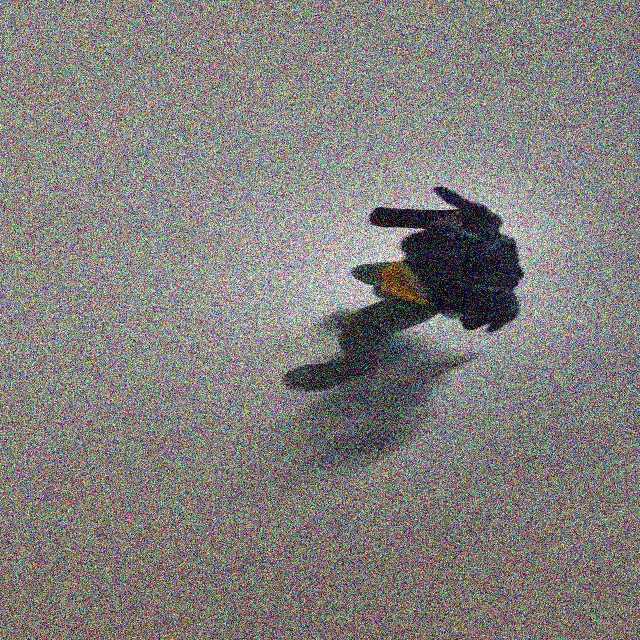Batman: (272, 180, 535, 392)
